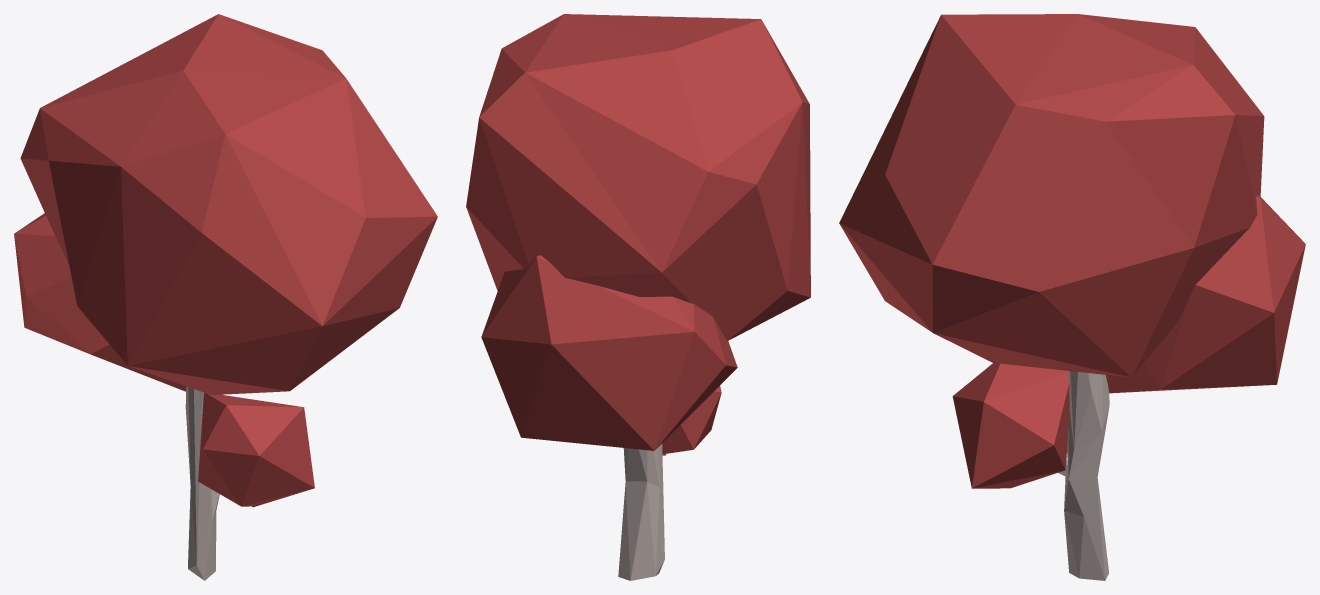
File: AspenLP3.fbx
The picture shows the model from 3 angles, left to right: view 1: azimuth 30°, elevation 25°; view 2: azimuth 150°, elevation 25°; view 3: azimuth 270°, elevation 25°; orthographic projection. The views are drawn at different scales.
Visible parts, largest first — view 1: polySurface120; view 2: polySurface120; view 3: polySurface120.
Part boxes in pixels (<box>): polySurface120: <box>14,14,437,580</box>; polySurface120: <box>466,14,810,580</box>; polySurface120: <box>839,14,1305,580</box>.
Size of the model in its own units: 25.34 by 39.41 by 30.33.
